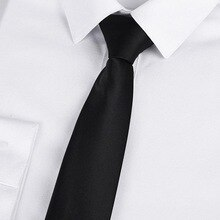tie: (41, 9, 157, 217)
